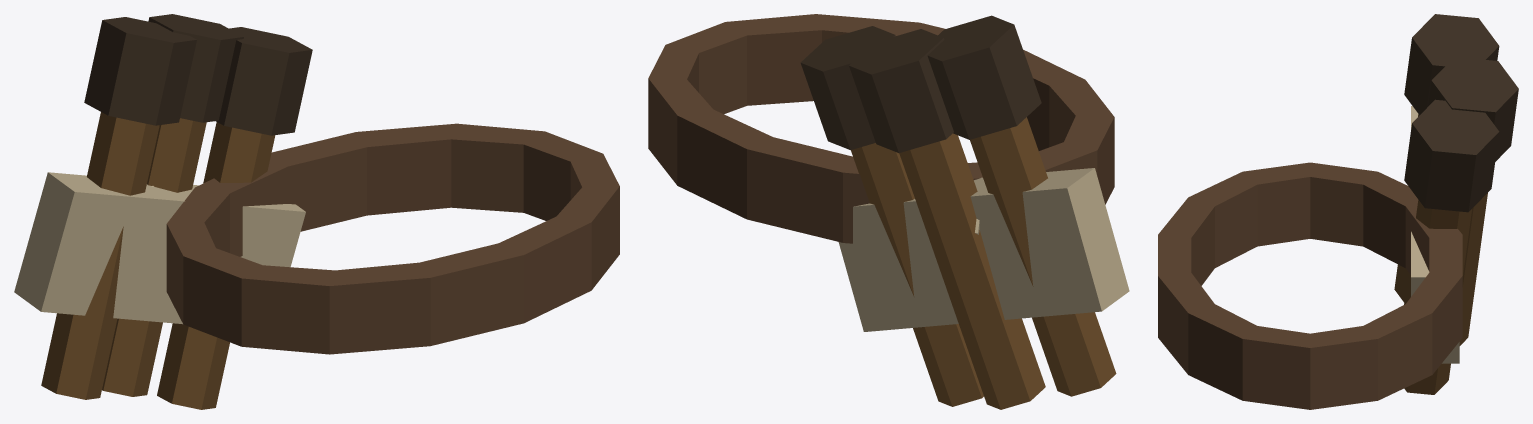
File: vfem2_belt_torch.obj
3 renders of one model, left to right at view 1: azimuth 30°, elevation 25°; view 2: azimuth 150°, elevation 25°; view 3: azimuth 270°, elevation 25°, orthographic. The views are drawn at different scales.
Visible parts, largest first — view 1: vfem2_belt_torch; view 2: vfem2_belt_torch; view 3: vfem2_belt_torch.
Part boxes in pixels (left/top/right/bottom): vfem2_belt_torch: left=14, top=14, right=619, bottom=409; vfem2_belt_torch: left=648, top=14, right=1129, bottom=409; vfem2_belt_torch: left=1158, top=14, right=1518, bottom=409.
Size of the model in its own units: 0.543 by 0.3939 by 0.3697.
